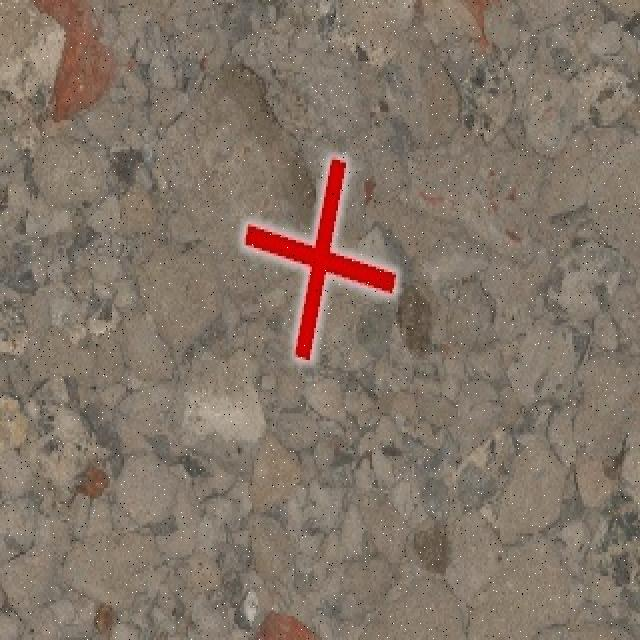x_marker: (243, 158, 395, 358)
